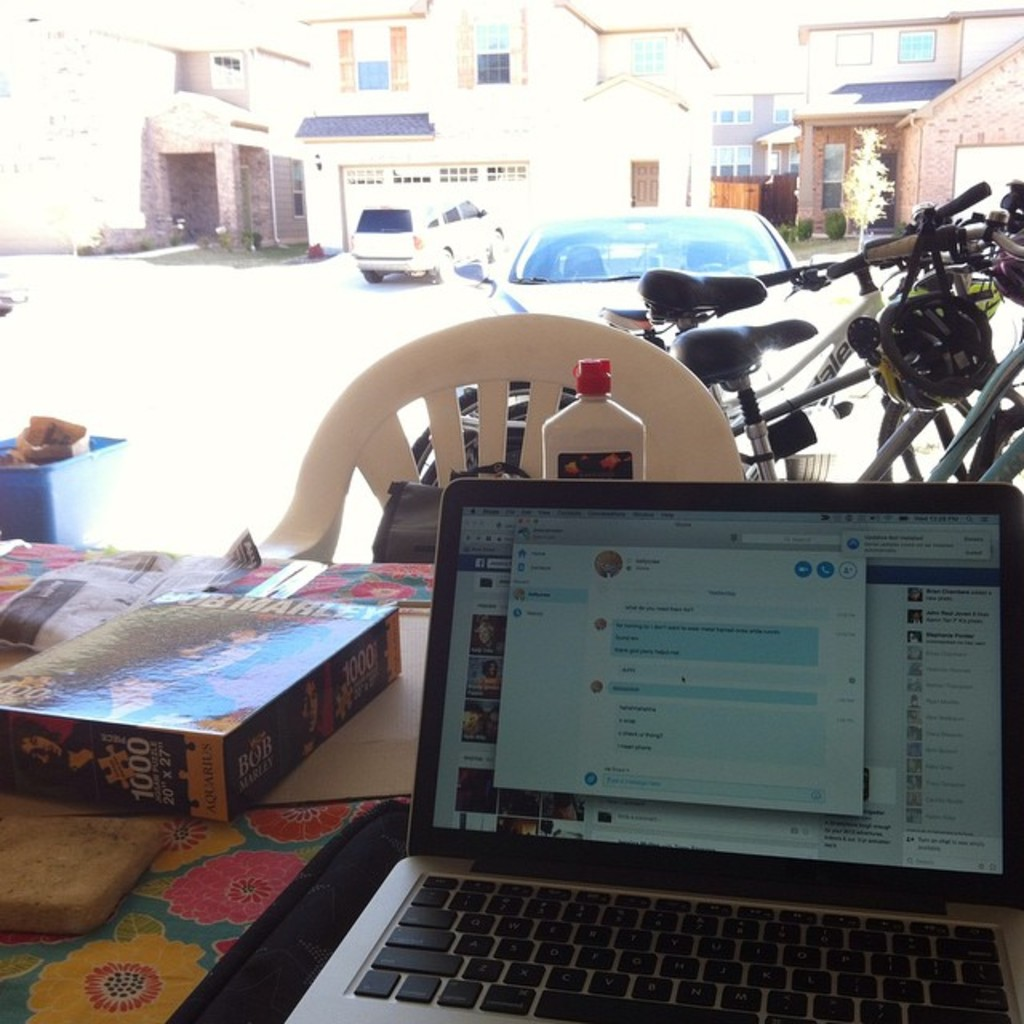Laptop: (275, 467, 1022, 1022)
